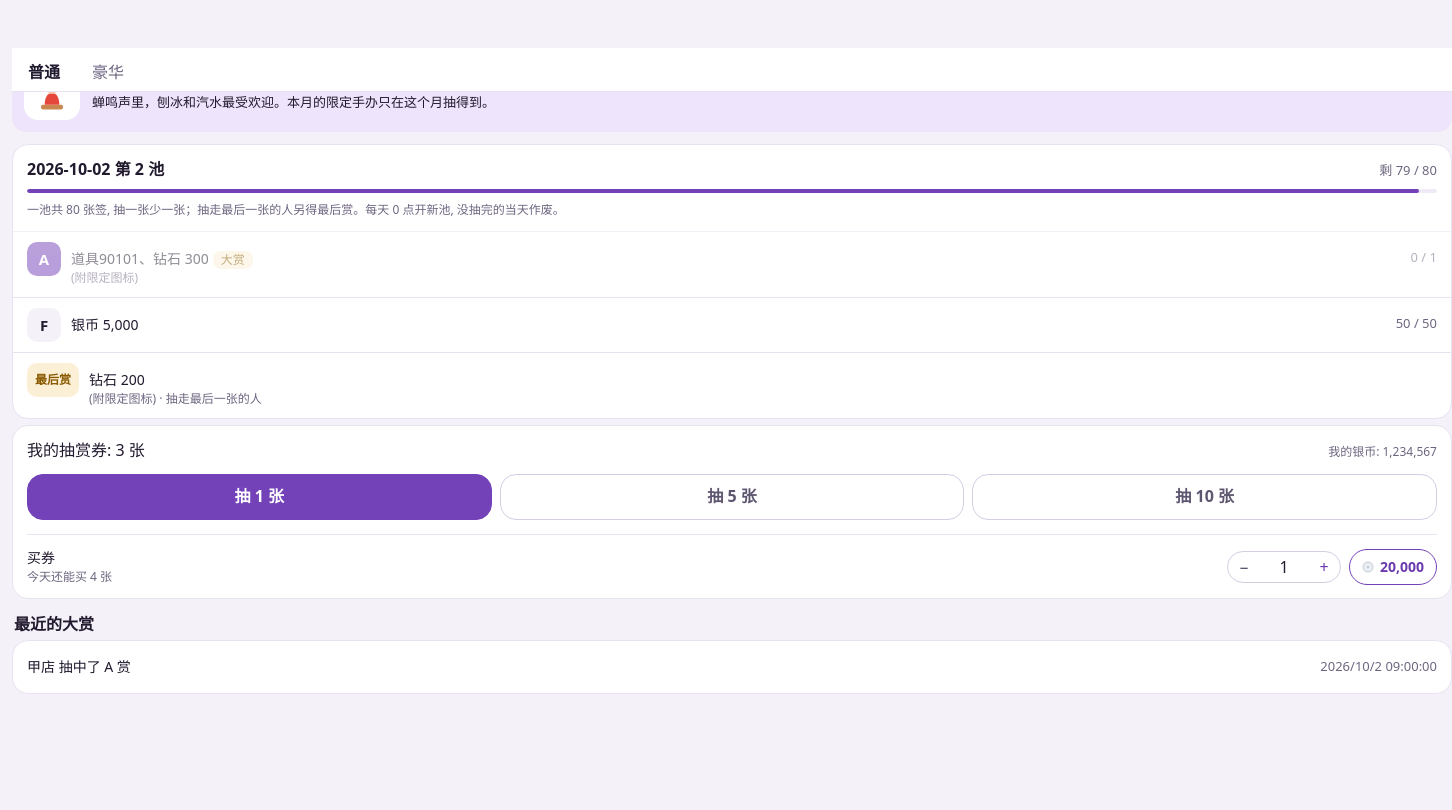
it: backlog 一番赏：页面 › 买券数量超过今天还能买的：步进器退回上限，不显示超出的总价（界面改版 P8 改成步进器）
Replace the text in the number field with test id "kj-buy-num" with "5" at (1284, 566), box [1260,552,1308,582]
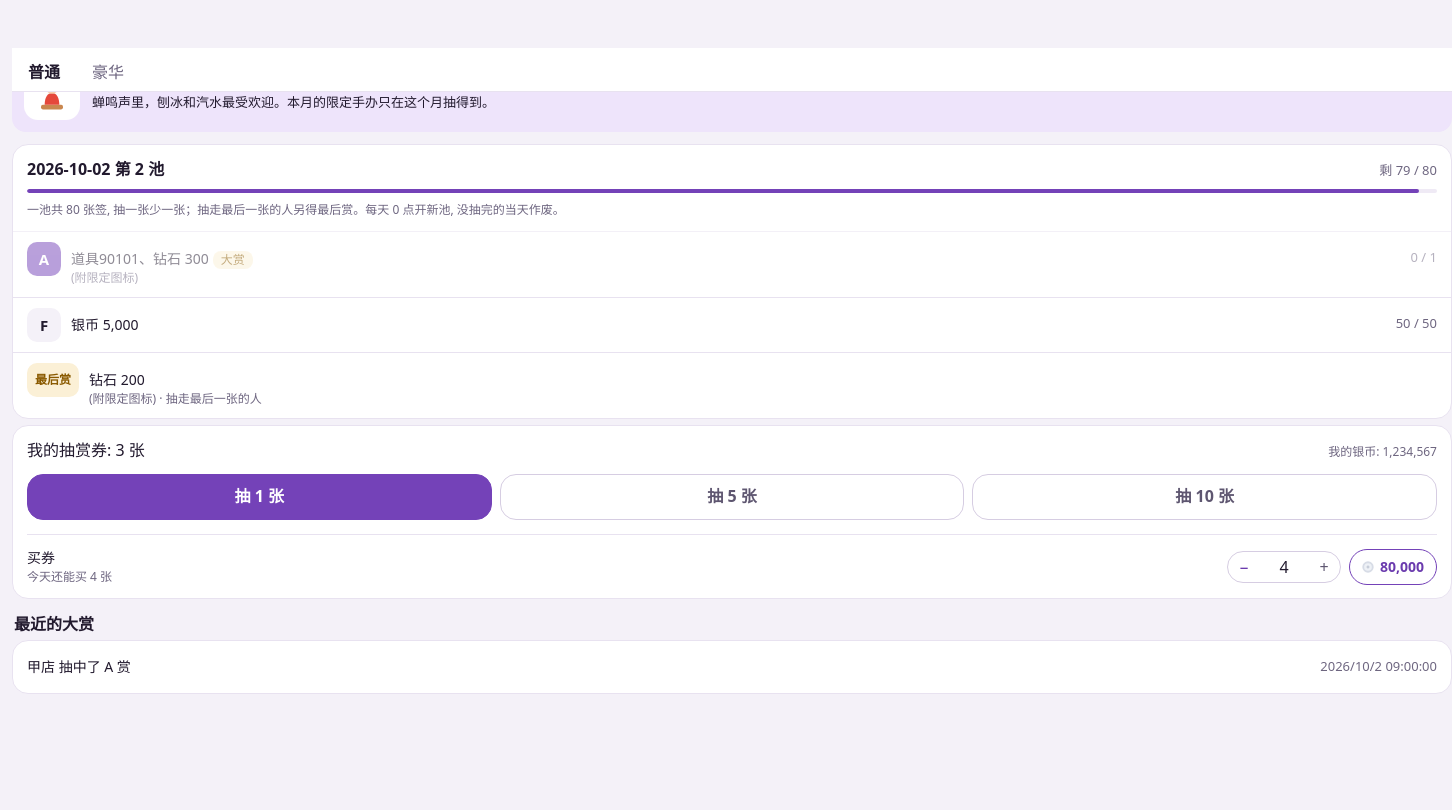
Expected: the button with test id "kj-buy" is enabled, [1349,548,1437,584]
Result: the number field with test id "kj-buy-num" holds "4" at [1260,552,1308,582]
Result: the button with test id "kj-buy" reads "80,000" at [1349,548,1437,584]
